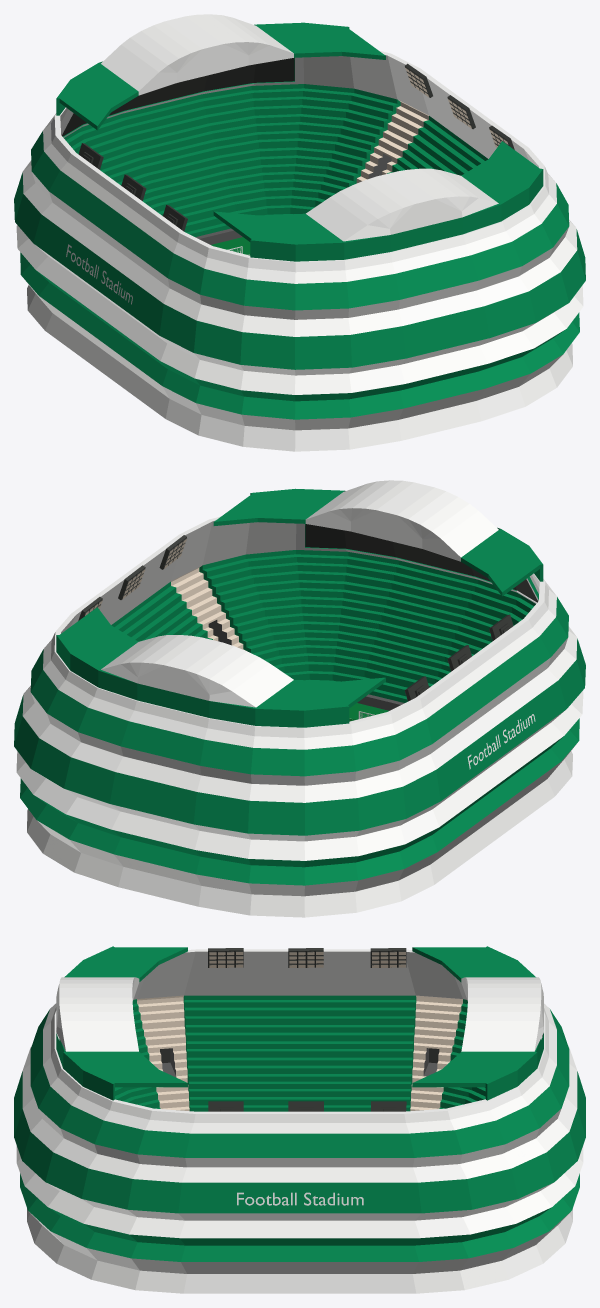
Rendered from stadium-transformed.glb.
3 views of the same model, one above another, from view 1: azimuth 30°, elevation 25°; view 2: azimuth 150°, elevation 25°; view 3: azimuth 270°, elevation 25° (orthographic). The views are drawn at different scales.
Parts seen in each view (by area): view 1: Football Stadium_Color_0; view 2: Football Stadium_Color_0; view 3: Football Stadium_Color_0.
Part boxes in pixels (bbox=[...]): Football Stadium_Color_0: bbox=[14, 14, 585, 451]; Football Stadium_Color_0: bbox=[14, 480, 585, 917]; Football Stadium_Color_0: bbox=[14, 946, 585, 1293].
Size of the model in its own units: 203 by 104 by 256.
1 material, 1 textured.
